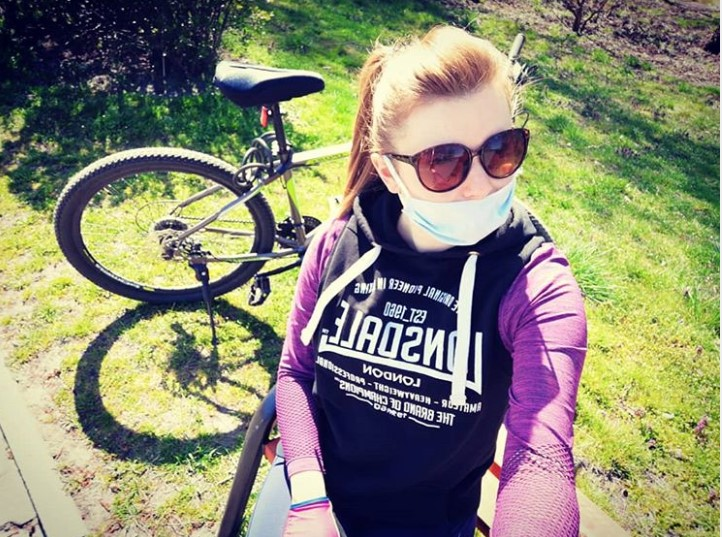face_with_mask: (362, 30, 534, 249)
